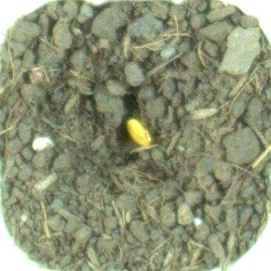pepper seed: (45, 41, 201, 190)
